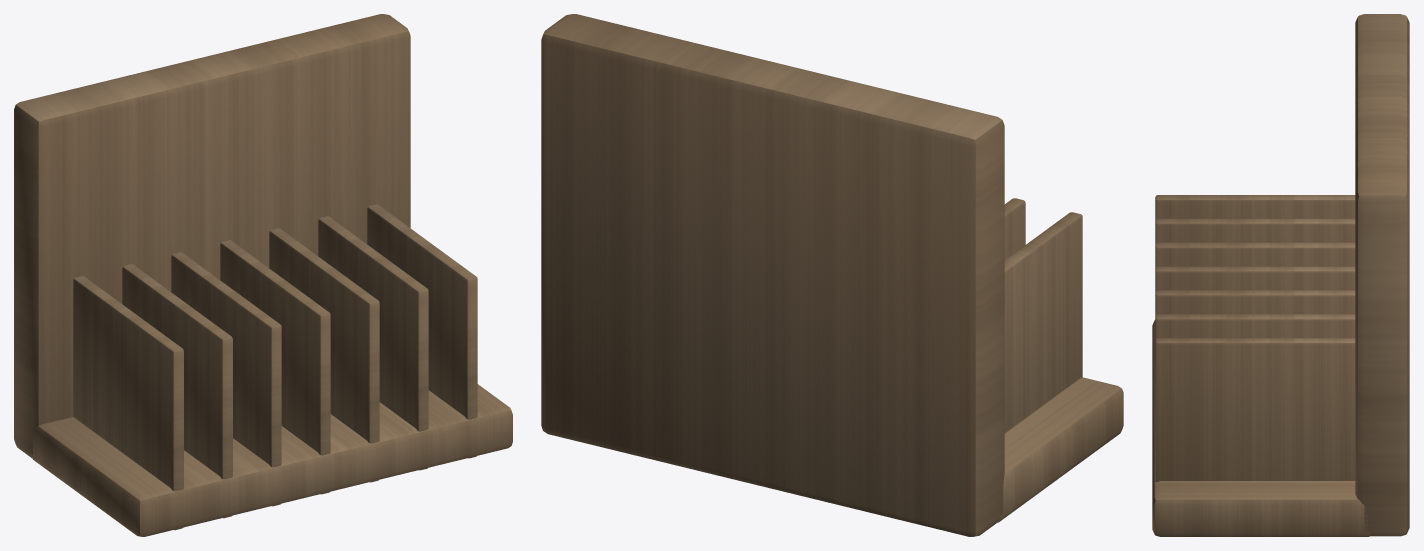
Rendered from scorecard_holder_premium.glb.
The picture shows the model from 3 angles, left to right: view 1: azimuth 30°, elevation 25°; view 2: azimuth 150°, elevation 25°; view 3: azimuth 270°, elevation 25°; orthographic projection. The views are drawn at different scales.
Parts seen in each view (by area): view 1: ScorecardHolder_Back, ScorecardHolder_Lip, ScorecardHolder_Divider_1, ScorecardHolder_Divider_5, ScorecardHolder_Divider_6, ScorecardHolder_Divider_7, ScorecardHolder_Divider_4, ScorecardHolder_Divider_2, ScorecardHolder_Divider_3; view 2: ScorecardHolder_Back, ScorecardHolder_Divider_1, ScorecardHolder_Lip, ScorecardHolder_Divider_2; view 3: ScorecardHolder_Divider_7, ScorecardHolder_Back, ScorecardHolder_Lip, ScorecardHolder_Divider_6, ScorecardHolder_Divider_2, ScorecardHolder_Divider_3, ScorecardHolder_Divider_4, ScorecardHolder_Divider_5, ScorecardHolder_Divider_1.
Part boxes in pixels (bbox=[...]): ScorecardHolder_Back: bbox=[14, 14, 410, 457]; ScorecardHolder_Lip: bbox=[31, 384, 512, 536]; ScorecardHolder_Divider_1: bbox=[73, 276, 183, 530]; ScorecardHolder_Divider_5: bbox=[269, 228, 379, 482]; ScorecardHolder_Divider_6: bbox=[318, 216, 428, 470]; ScorecardHolder_Divider_7: bbox=[367, 204, 477, 458]; ScorecardHolder_Divider_4: bbox=[220, 240, 330, 494]; ScorecardHolder_Divider_2: bbox=[122, 264, 232, 518]; ScorecardHolder_Divider_3: bbox=[171, 252, 281, 506]; ScorecardHolder_Back: bbox=[541, 14, 1004, 536]; ScorecardHolder_Divider_1: bbox=[1004, 212, 1082, 433]; ScorecardHolder_Lip: bbox=[997, 377, 1123, 522]; ScorecardHolder_Divider_2: bbox=[1004, 198, 1025, 259]; ScorecardHolder_Divider_7: bbox=[1155, 338, 1355, 482]; ScorecardHolder_Back: bbox=[1355, 14, 1409, 536]; ScorecardHolder_Lip: bbox=[1152, 320, 1370, 536]; ScorecardHolder_Divider_6: bbox=[1155, 314, 1355, 339]; ScorecardHolder_Divider_2: bbox=[1155, 218, 1355, 244]; ScorecardHolder_Divider_3: bbox=[1155, 242, 1355, 268]; ScorecardHolder_Divider_4: bbox=[1155, 266, 1355, 292]; ScorecardHolder_Divider_5: bbox=[1155, 290, 1355, 315]; ScorecardHolder_Divider_1: bbox=[1155, 195, 1355, 220].
Size of what is drawn, in the model's own units: 0.33 by 0.29 by 0.1955.
Materials: 1 (1 with a texture image).
